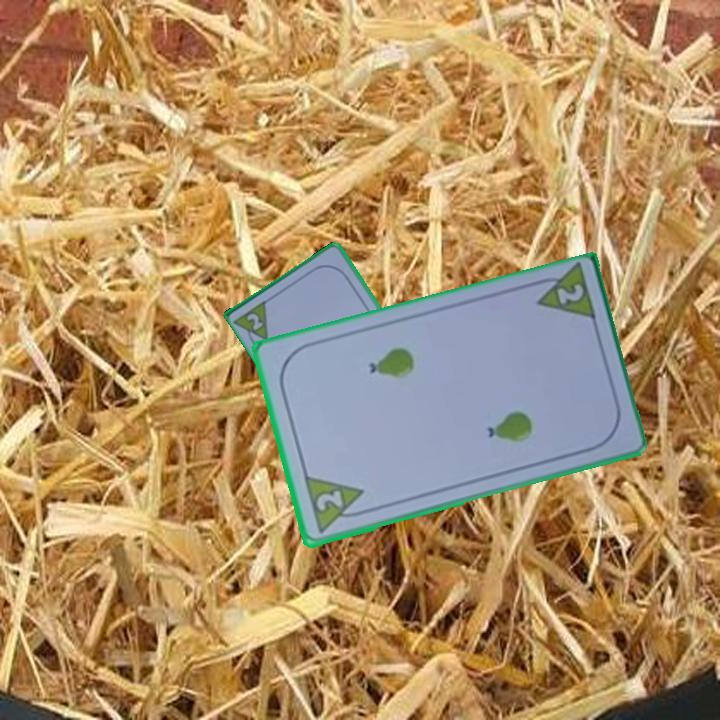2p: (299, 473, 371, 537), (552, 280, 587, 308), (243, 309, 267, 334)
